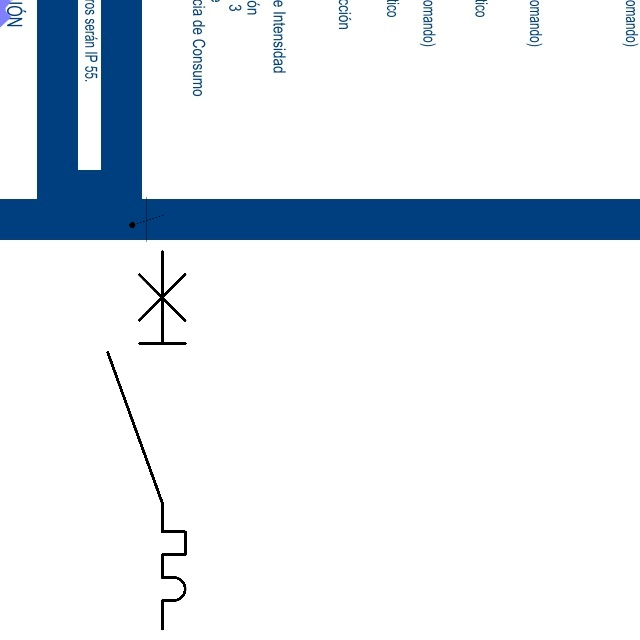interruptor_termomagnetico: (98, 241, 195, 638)
